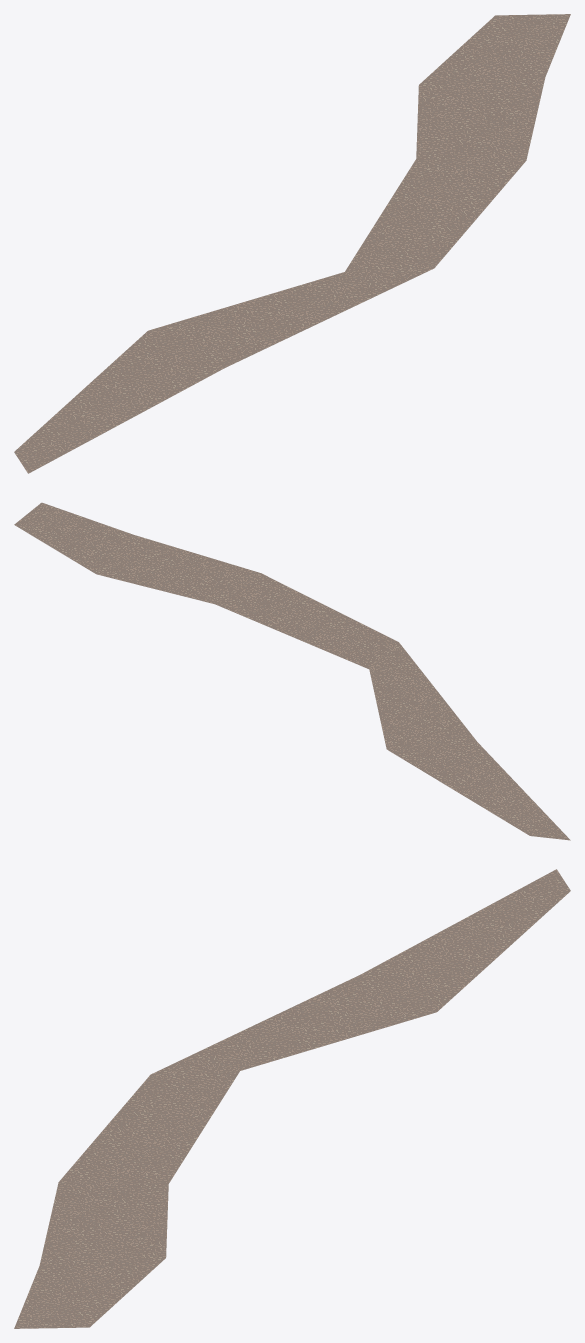
Rendered from kd_connection_world-inner_surface_15_9.glb.
The picture shows the model from 3 angles, top to bottom: view 1: azimuth 90°, elevation 25°; view 2: azimuth 150°, elevation 25°; view 3: azimuth 270°, elevation 25°; orthographic projection. The views are drawn at different scales.
Visible parts, largest first — view 1: kd_connection_world-inner_surface_15_9; view 2: kd_connection_world-inner_surface_15_9; view 3: kd_connection_world-inner_surface_15_9.
Boxes of the visible parts, x1=… form: kd_connection_world-inner_surface_15_9: x1=14, y1=14, x2=570, y2=473; kd_connection_world-inner_surface_15_9: x1=14, y1=502, x2=570, y2=840; kd_connection_world-inner_surface_15_9: x1=14, y1=869, x2=570, y2=1328.
Size of the model in its own units: 12.47 by 9.54e-07 by 6.38.
1 material, 1 textured.
